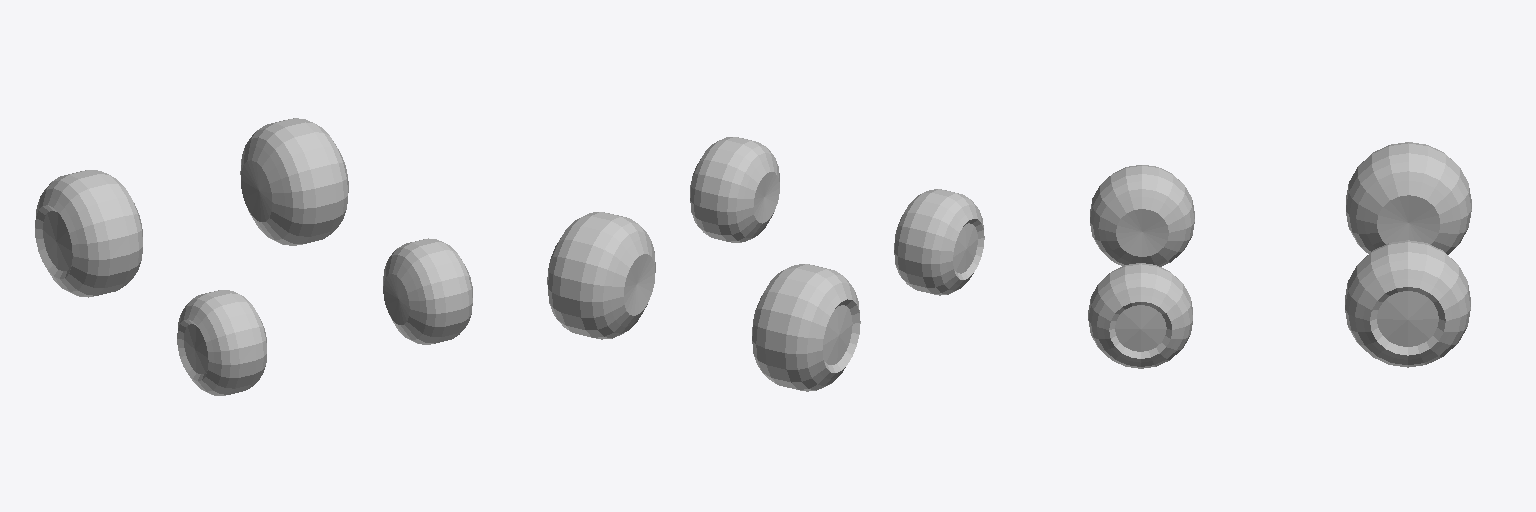
File: Leaf Tires.obj
3 views of the same model, side by side, from view 1: azimuth 30°, elevation 25°; view 2: azimuth 150°, elevation 25°; view 3: azimuth 270°, elevation 25° (orthographic).
Parts seen in each view (by area): view 1: TireB_B__m_Tire.001, TireB_F__m_Tire.001, TireB_B__m_Tire, TireB_F__m_Tire; view 2: TireB_F__m_Tire.001, TireB_B__m_Tire.001, TireB_B__m_Tire, TireB_F__m_Tire; view 3: TireB_B__m_Tire.001, TireB_F__m_Tire.001, TireB_B__m_Tire, TireB_F__m_Tire.
Boxes of the visible parts, <box> form: TireB_B__m_Tire.001: <box>240,118,348,245</box>; TireB_F__m_Tire.001: <box>35,170,142,297</box>; TireB_B__m_Tire: <box>383,238,472,344</box>; TireB_F__m_Tire: <box>177,290,266,395</box>; TireB_F__m_Tire.001: <box>752,264,860,391</box>; TireB_B__m_Tire.001: <box>547,212,655,339</box>; TireB_B__m_Tire: <box>690,137,779,242</box>; TireB_F__m_Tire: <box>894,189,984,295</box>; TireB_B__m_Tire.001: <box>1345,240,1470,367</box>; TireB_F__m_Tire.001: <box>1346,142,1471,254</box>; TireB_B__m_Tire: <box>1088,263,1192,368</box>; TireB_F__m_Tire: <box>1090,165,1194,266</box>.
Size of the model in its own units: 1.28 by 0.5263 by 1.54.